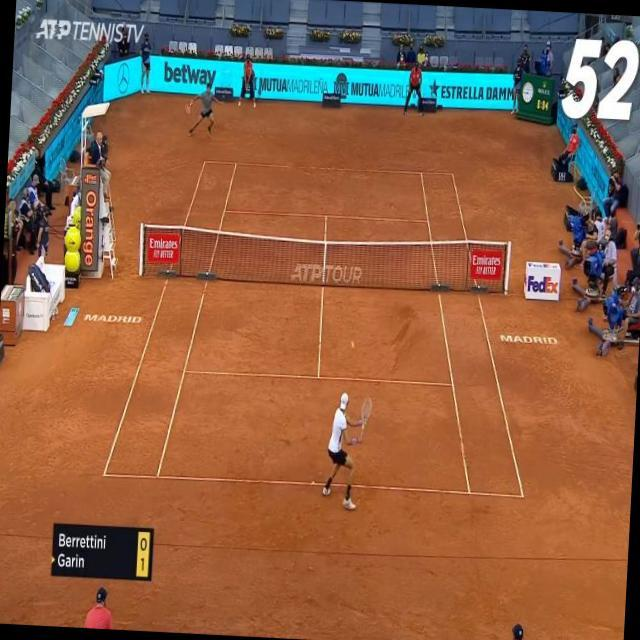court: (102, 156, 540, 498)
net: (138, 222, 512, 296)
player: (322, 391, 372, 512)
